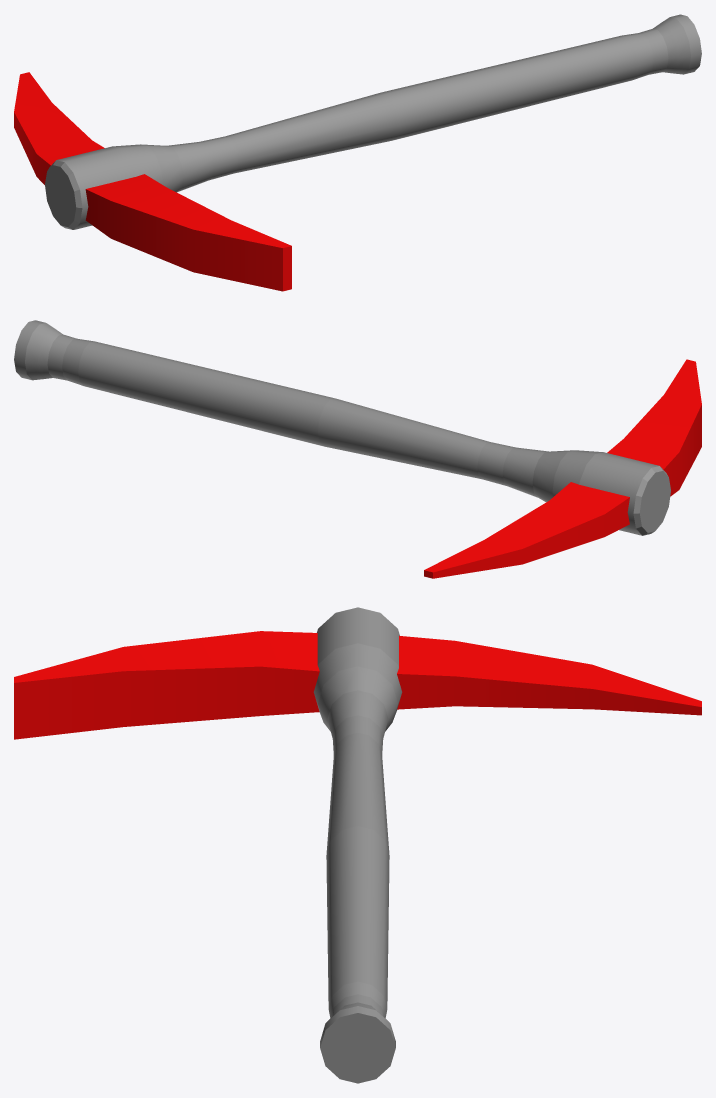
Rendered from SM_Pioche1.FBX.
3 renders of one model, top to bottom at view 1: azimuth 30°, elevation 25°; view 2: azimuth 150°, elevation 25°; view 3: azimuth 270°, elevation 25°, orthographic. The views are drawn at different scales.
Visible parts, largest first — view 1: Line010; view 2: Line010; view 3: Line010.
Boxes of the visible parts, box(x1,y1,x2,y2) form: Line010: box(14, 14, 701, 291); Line010: box(14, 320, 701, 578); Line010: box(14, 607, 701, 1083).
Size of the model in its own units: 117 by 11.76 by 85.07.
